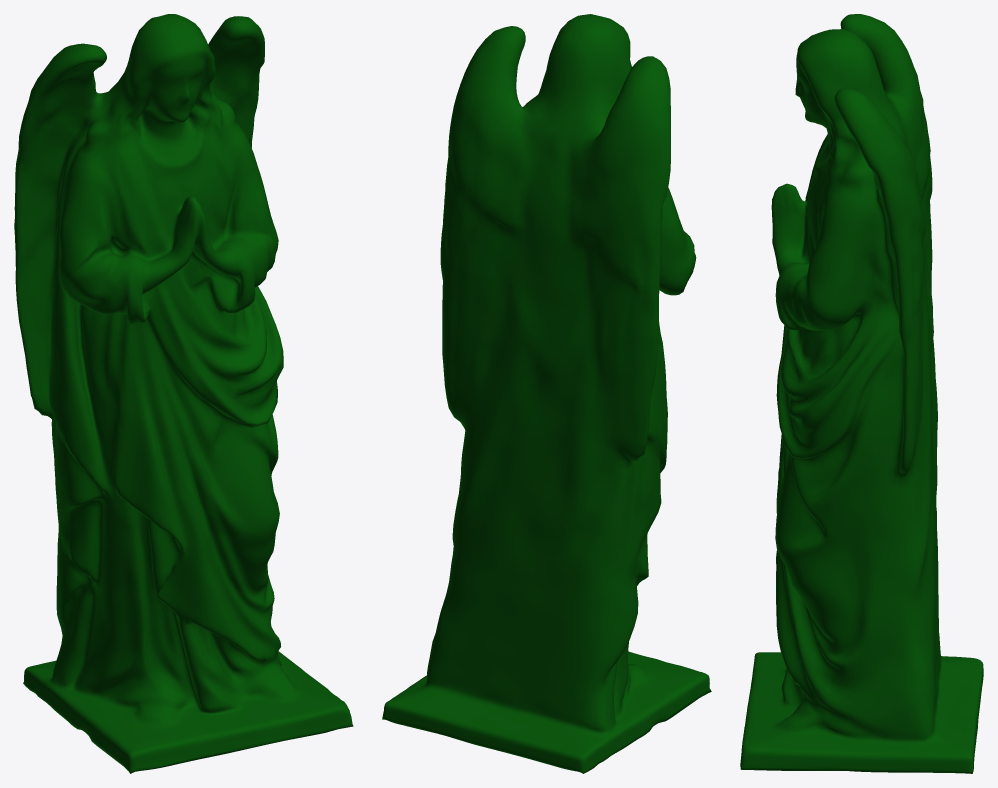
File: Angle_LP.fbx
3 renders of one model, left to right at view 1: azimuth 30°, elevation 25°; view 2: azimuth 150°, elevation 25°; view 3: azimuth 270°, elevation 25°, orthographic. The views are drawn at different scales.
Visible parts, largest first — view 1: Angel_LP; view 2: Angel_LP; view 3: Angel_LP.
Boxes of the visible parts, box(x1,y1,x2,y2) form: Angel_LP: box(14, 14, 353, 773); Angel_LP: box(382, 14, 711, 773); Angel_LP: box(740, 14, 983, 773).
Size of the model in its own units: 2.39 by 6.23 by 2.04.
